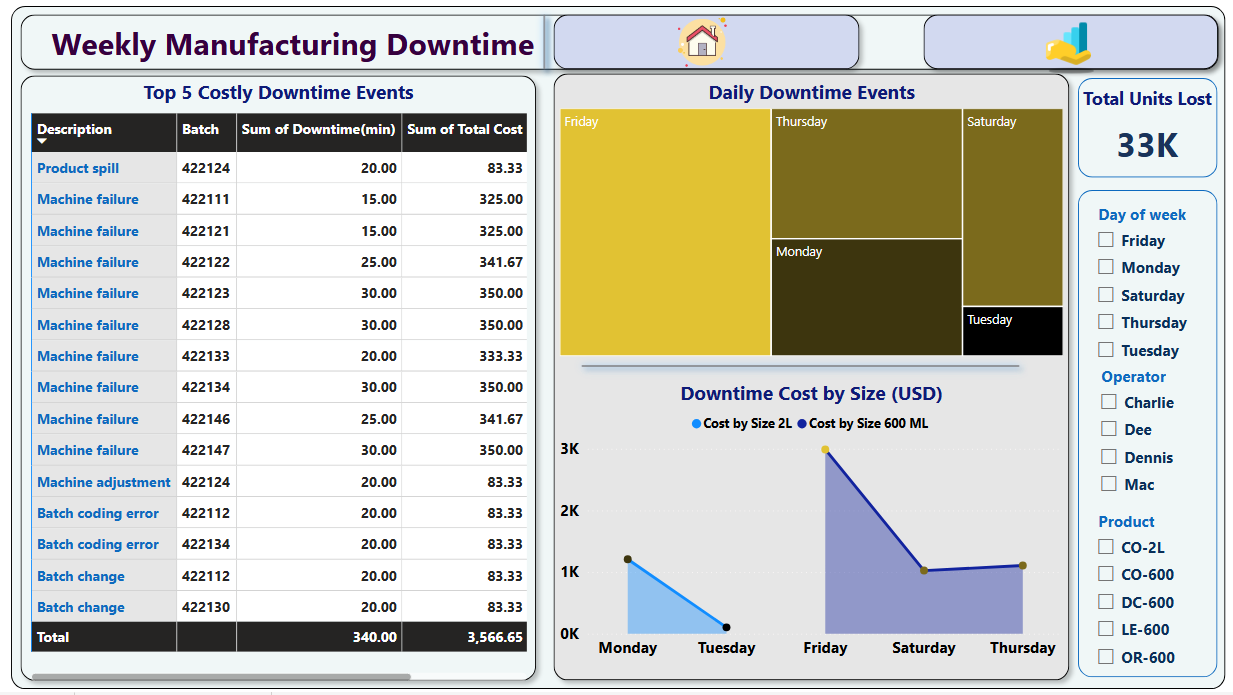

This screenshot's page, from the dashboard's own definition file:
{"tool":"powerbi","page":{"name":"Insights✨📊","canvas":[1280,720],"ordinal":2},"visuals":[{"type":"shape","box":[0,0,1278.5,719.2],"z":0},{"type":"shape","box":[1.5,0,1278.5,76.1],"z":1000},{"type":"shape","box":[591.8,0,340,75.7],"z":2000},{"type":"shape","box":[951.6,0,328.4,75.6],"z":3000},{"type":"shape","box":[1.5,63.9,560.8,655.3],"z":4000},{"type":"shape","box":[562.3,62.5,560.8,656.7],"z":5000},{"type":"shape","box":[1123.1,193.2,146.7,512.9],"z":6000},{"type":"slicer","title":"Day","fields":{"Values":["line-productivity.Day of week"]},"box":[1131.8,203.4,146.7,187.4],"z":7000},{"type":"slicer","fields":{"Values":["products.Product"]},"box":[1131.8,525.9,148.2,180.2],"z":8000},{"type":"treemap","title":"Daily Downtime Events","fields":{"Group":["line-productivity.Day of week"],"Values":["line-downtime.Daily Downtime Events"]},"box":[572.4,75.6,540.5,297.8],"z":9000},{"type":"slicer","fields":{"Values":["line-productivity.Operator"]},"box":[1134.7,373.4,145.3,152.6],"z":10000},{"type":"textbox","box":[35.8,11,675.8,96.3],"z":11000},{"type":"image","box":[607,5.5,309.7,75.7],"z":12000},{"type":"image","box":[963.3,0,306.6,75.6],"z":13000},{"type":"tableEx","title":"Top 5 Costly Downtime Events","fields":{"Values":["downtime-factors.Description","line-downtime.Batch","Sum(line-downtime.Downtime(min))","Sum(line-downtime.Total Cost)","Sum(line-downtime.Revenue Lost)"]},"box":[20.3,75.6,523,634.9],"z":14000},{"type":"areaChart","title":"Downtime Cost by Size (USD)","fields":{"Category":["line-productivity.Day of week"],"Y":["line-downtime.Cost by Size 2L","line-downtime.Cost by Size 600 ML"]},"box":[572.4,392.3,540.5,303.7],"z":15000},{"type":"shape","box":[1123.1,75.6,146.7,104.6],"z":16000},{"type":"card","title":"Total Units Lost","fields":{"Values":["line-downtime.Total Units Lost"]},"box":[1121.6,84.3,148.2,95.9],"z":17000},{"type":"shape","box":[591.3,360.3,479.5,37.8],"z":18000},{"type":"shape","box":[546.4,0,60.6,75.7],"z":19000},{"type":"image","box":[6.9,5.5,57.8,57.8],"z":20000}]}

Visuals, with their boxes in screenshot pixels (x1, y1, x2, y2), scaled from the page's 1280x720 canvas onto the 1233x695 screenshot:
shape: crop(0, 0, 1232, 694)
shape: crop(1, 0, 1232, 73)
shape: crop(570, 0, 898, 73)
shape: crop(917, 0, 1232, 73)
shape: crop(1, 62, 542, 694)
shape: crop(542, 60, 1082, 694)
shape: crop(1082, 186, 1223, 682)
"Day" slicer: crop(1090, 196, 1232, 377)
slicer - products.Product: crop(1090, 508, 1232, 682)
"Daily Downtime Events" treemap: crop(551, 73, 1072, 360)
slicer - line-productivity.Operator: crop(1093, 360, 1232, 508)
textbox: crop(34, 11, 685, 104)
image: crop(585, 5, 883, 78)
image: crop(928, 0, 1223, 73)
"Top 5 Costly Downtime Events" tableEx: crop(20, 73, 523, 686)
"Downtime Cost by Size (USD)" areaChart: crop(551, 379, 1072, 672)
shape: crop(1082, 73, 1223, 174)
"Total Units Lost" card: crop(1080, 81, 1223, 174)
shape: crop(570, 348, 1031, 384)
shape: crop(526, 0, 585, 73)
image: crop(7, 5, 62, 61)
